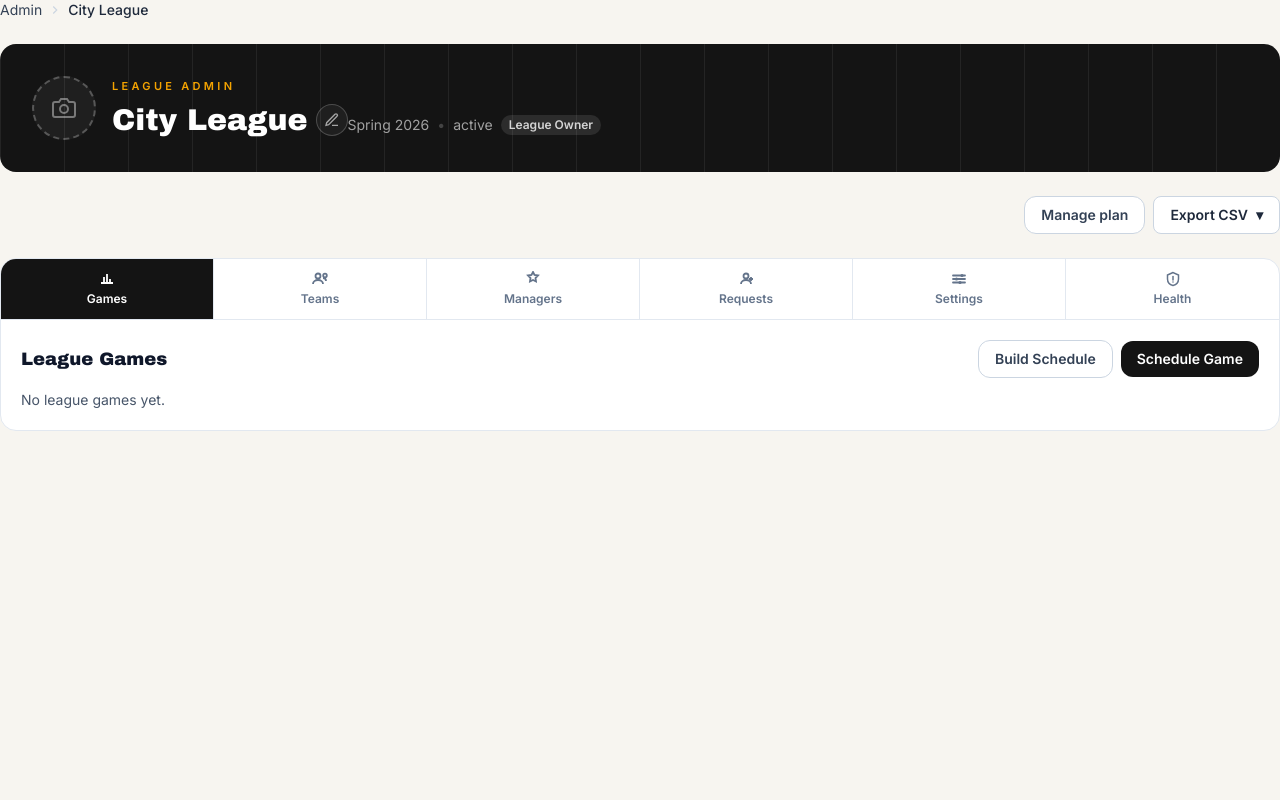
Scenario: AdminLeaguePage › lets a league owner archive a team from the Teams tab
The image size is (1280, 800).
Click the tab "Teams" at x=320, y=289, box [214,259,427,319]
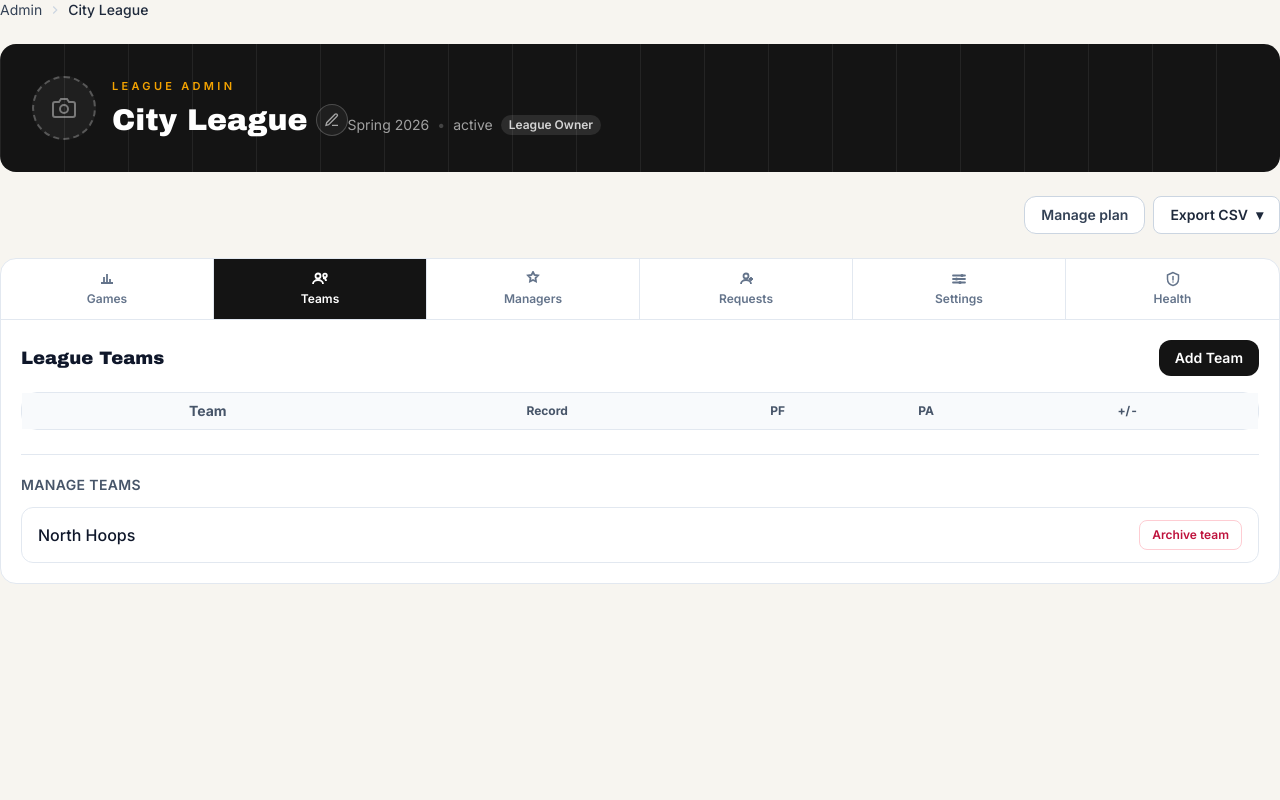
Click the button with aria-label "Archive North Hoops" at x=1191, y=535, box [1139,520,1242,550]
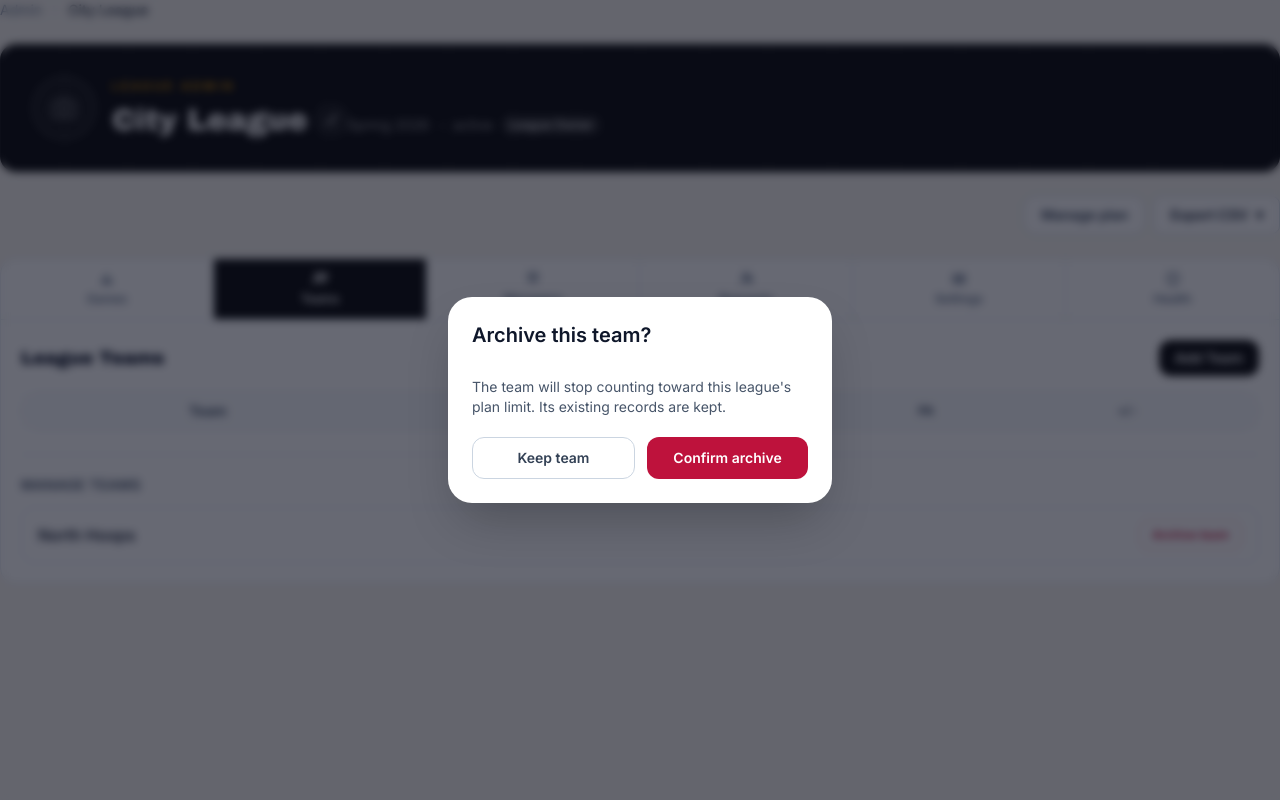
Click the button "Confirm archive" at x=728, y=458, box [647,437,808,479]
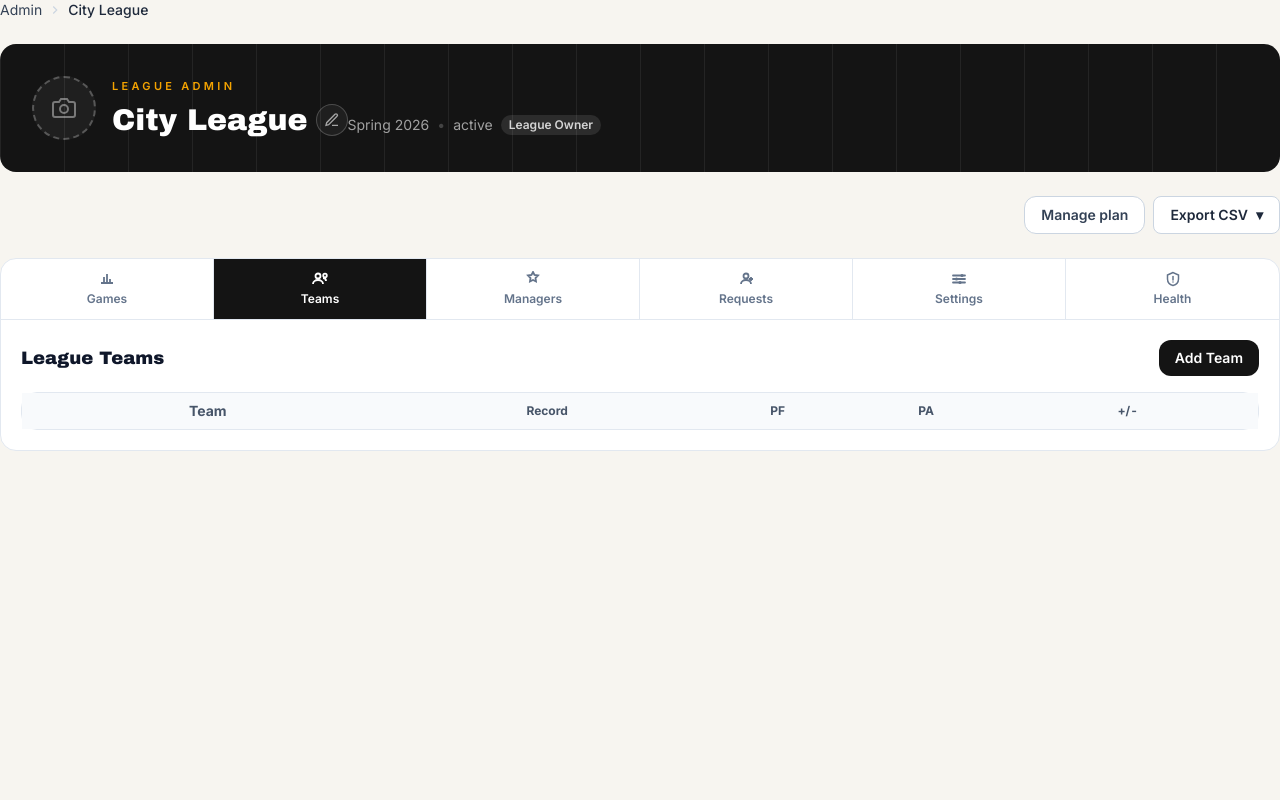
Now the link "North Hoops" is gone
